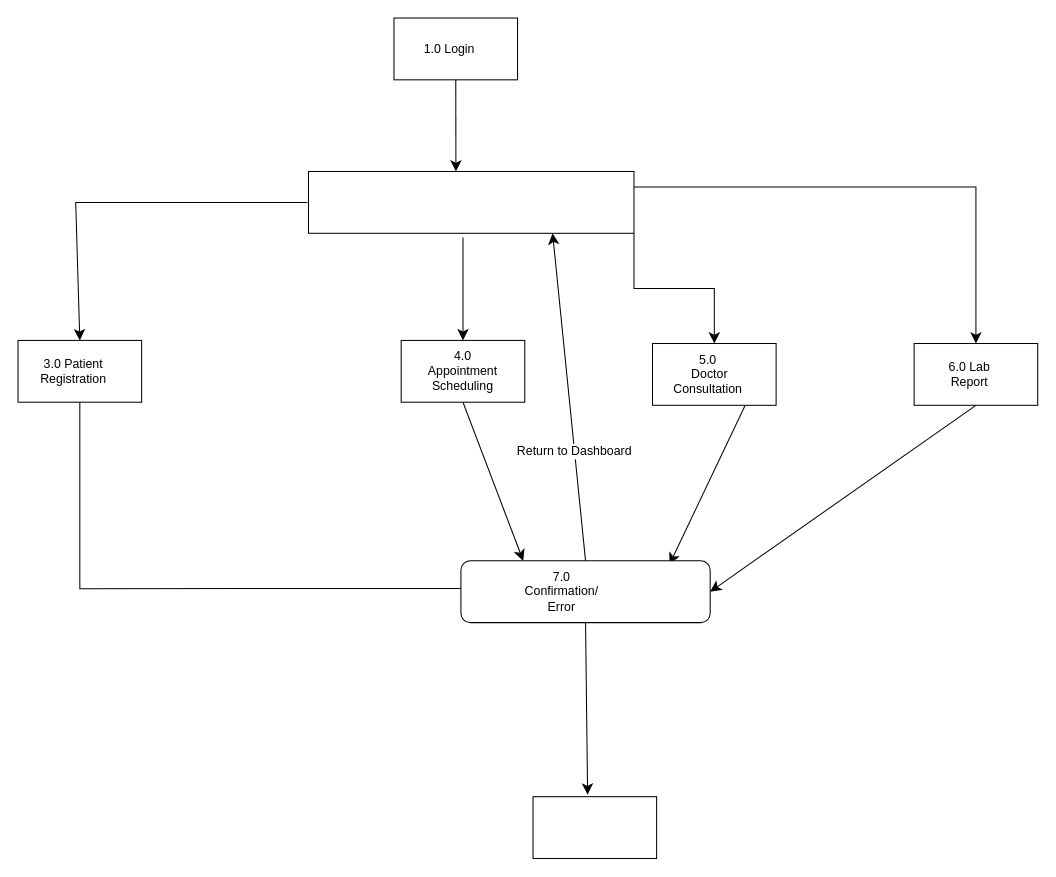
The diagram is 1056 pixels wide and 877 high, and some of its shapes have lost their labels. The centre of each missing label's shape, as x and y in pixels:
2.0 Dashboard: [470,201]
8.0 Logout: [594,827]
